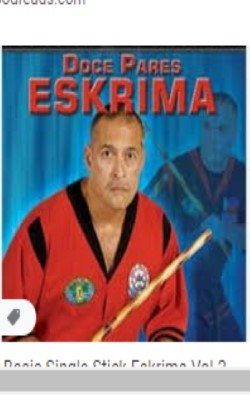baston_e: (105, 238, 212, 334), (149, 145, 208, 217)
baston_v: (199, 221, 215, 244), (156, 169, 172, 189), (219, 245, 236, 262)
